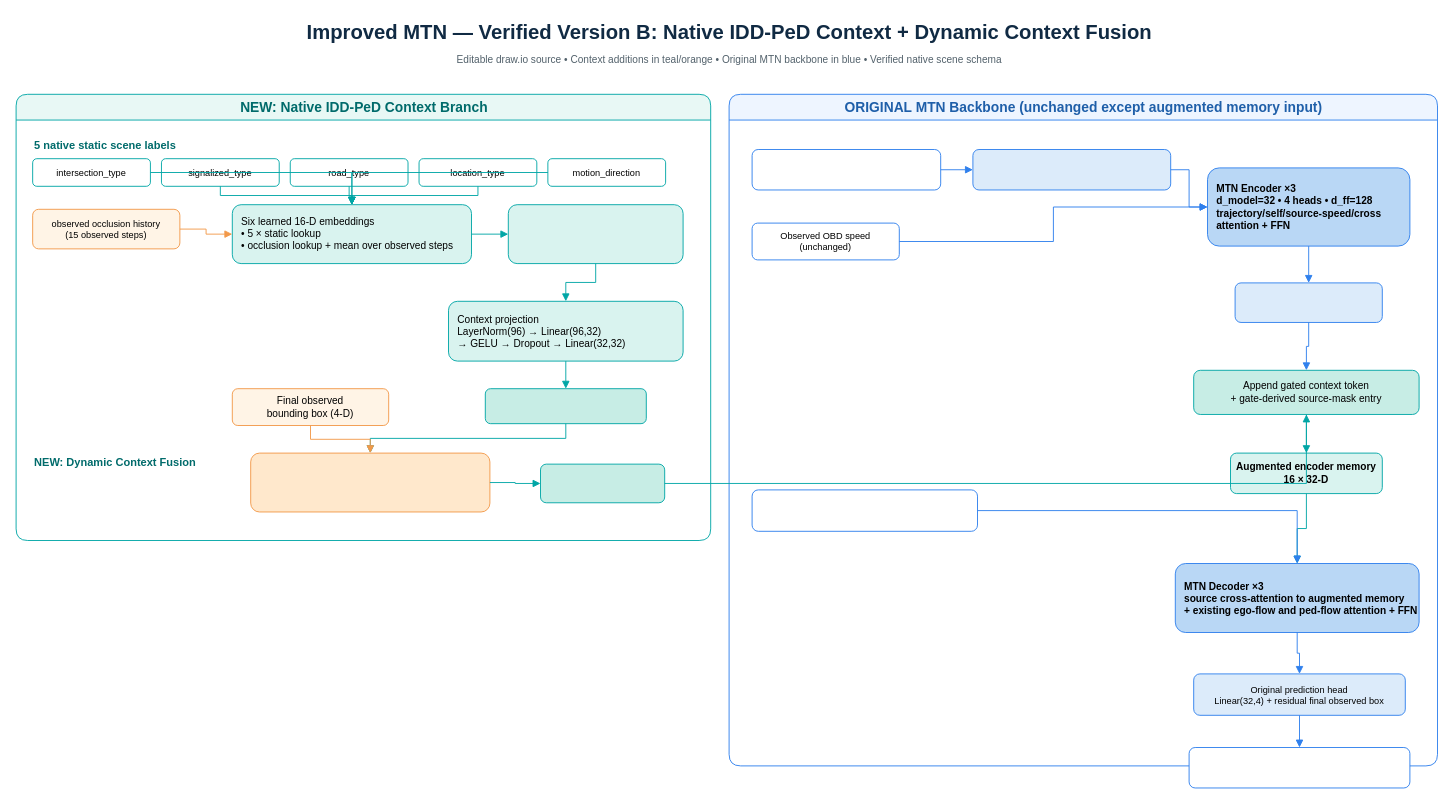
Image size: 1454x804. Some labels were removed from this diagram. The centre of each missing label's shape, as x and y in pixels:
32-D context token: the point at 565,406
Concatenate 6 × 16-D = 96-D context feature: the point at 595,234
Dynamic gate concat: 32 + 4 = 36 Linear(36,16) → GELU → Linear(16,2): the point at 370,482
Encoder memory 15 × 32-D: the point at 1308,302
Future pedestrian bounding-box prediction 45 × 4-D: the point at 1299,767
Gated 32-D context token: the point at 602,483
Observed pedestrian bounding boxes 15 × 4-D: the point at 846,169
Original MTN auxiliary inputs ego flow + pedestrian flow (unchanged): the point at 864,510
Original MTN source embedding Linear(4,32) + positional encoding: the point at 1071,169
